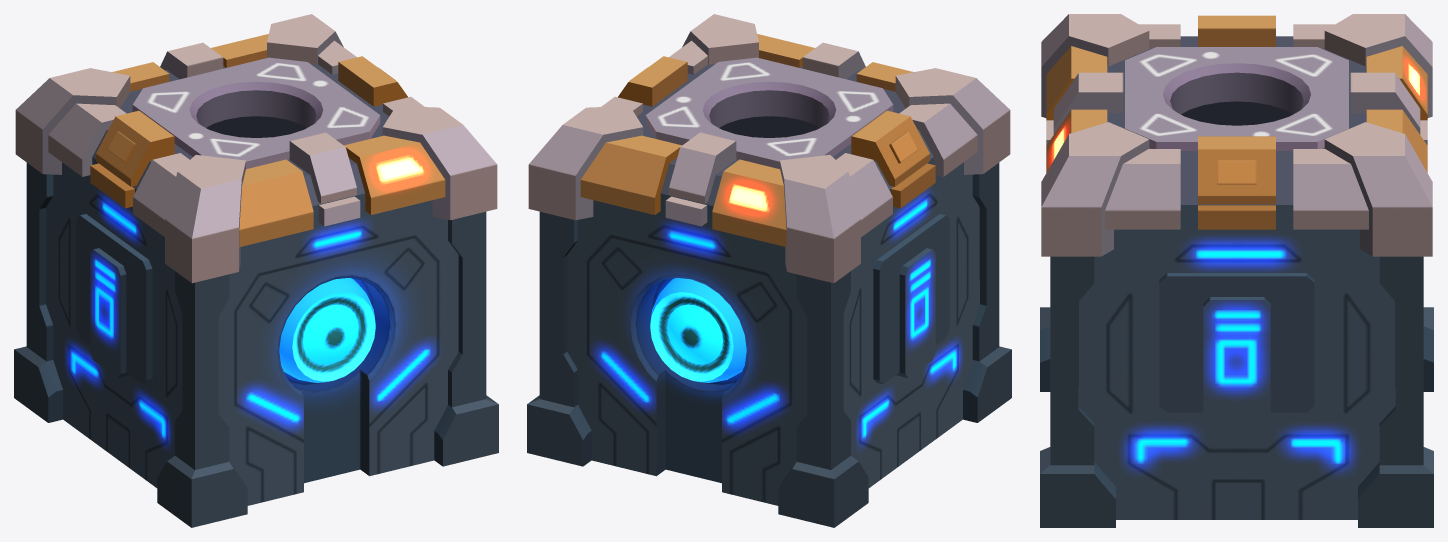
File: Scifi_LootBox_03.fbx
The picture shows the model from 3 angles, left to right: view 1: azimuth 30°, elevation 25°; view 2: azimuth 150°, elevation 25°; view 3: azimuth 270°, elevation 25°; orthographic projection. The views are drawn at different scales.
Visible parts, largest first — view 1: Scifi_LootBox_03; view 2: Scifi_LootBox_03; view 3: Scifi_LootBox_03.
Boxes of the visible parts, x1=… form: Scifi_LootBox_03: x1=14, y1=14, x2=498, y2=527; Scifi_LootBox_03: x1=527, y1=14, x2=1011, y2=527; Scifi_LootBox_03: x1=1040, y1=14, x2=1433, y2=527.
Size of the model in its own units: 221 by 224 by 221.
